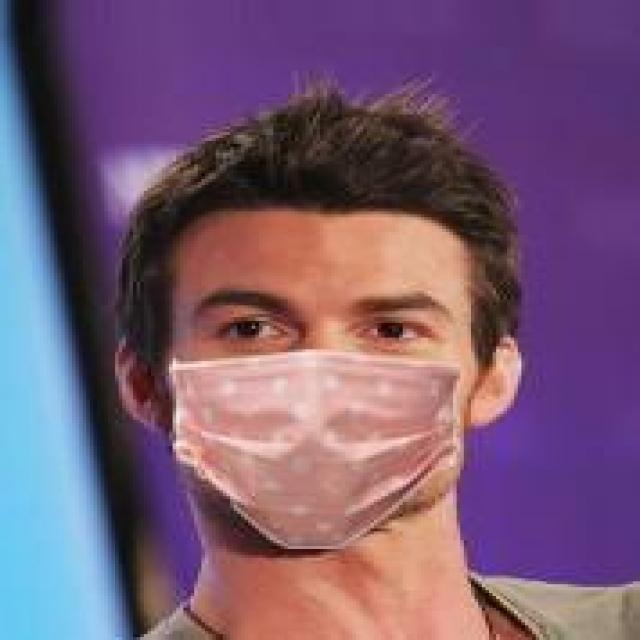mask: (126, 106, 554, 549)
